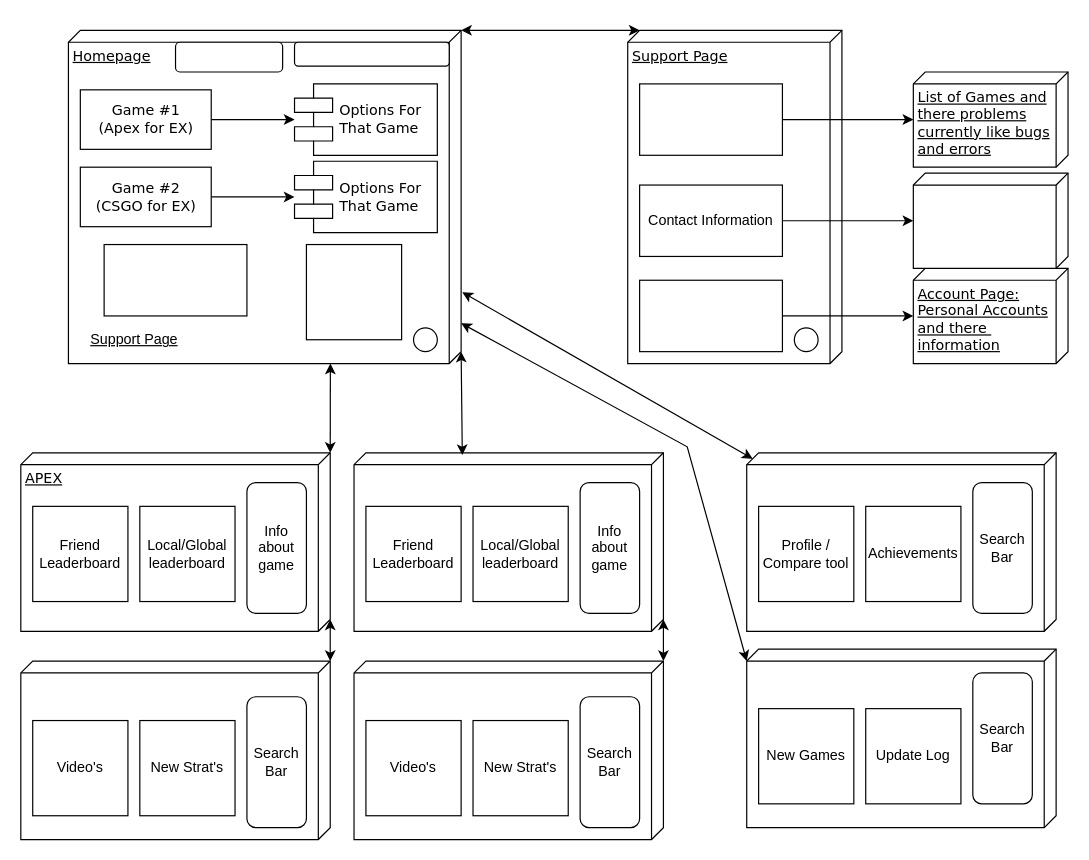
Some shapes in this 1089 by 860 pixel diagram are drawn without their labels. Here are the shapes that lost their labels. From the top down, the box of each, then its label:
(174, 41, 283, 72): Clip of the Day
(293, 41, 449, 66): Ads Go Some Where
(638, 83, 782, 155): FAQ
(912, 172, 1068, 268): Information about the Website
(103, 243, 247, 316): New Game Releases / Updates
(305, 243, 402, 340): Online (3): Offline (45):
(638, 279, 782, 352): Account Information
(353, 452, 663, 631): CS:GO
(746, 452, 1056, 631): Friends Stats
(20, 660, 330, 840): Pro Player Vid's/Info APEX
(353, 660, 663, 840): Pro Player Vid's/Info CS:GO
(746, 648, 1056, 828): New Releases / Update Logs
